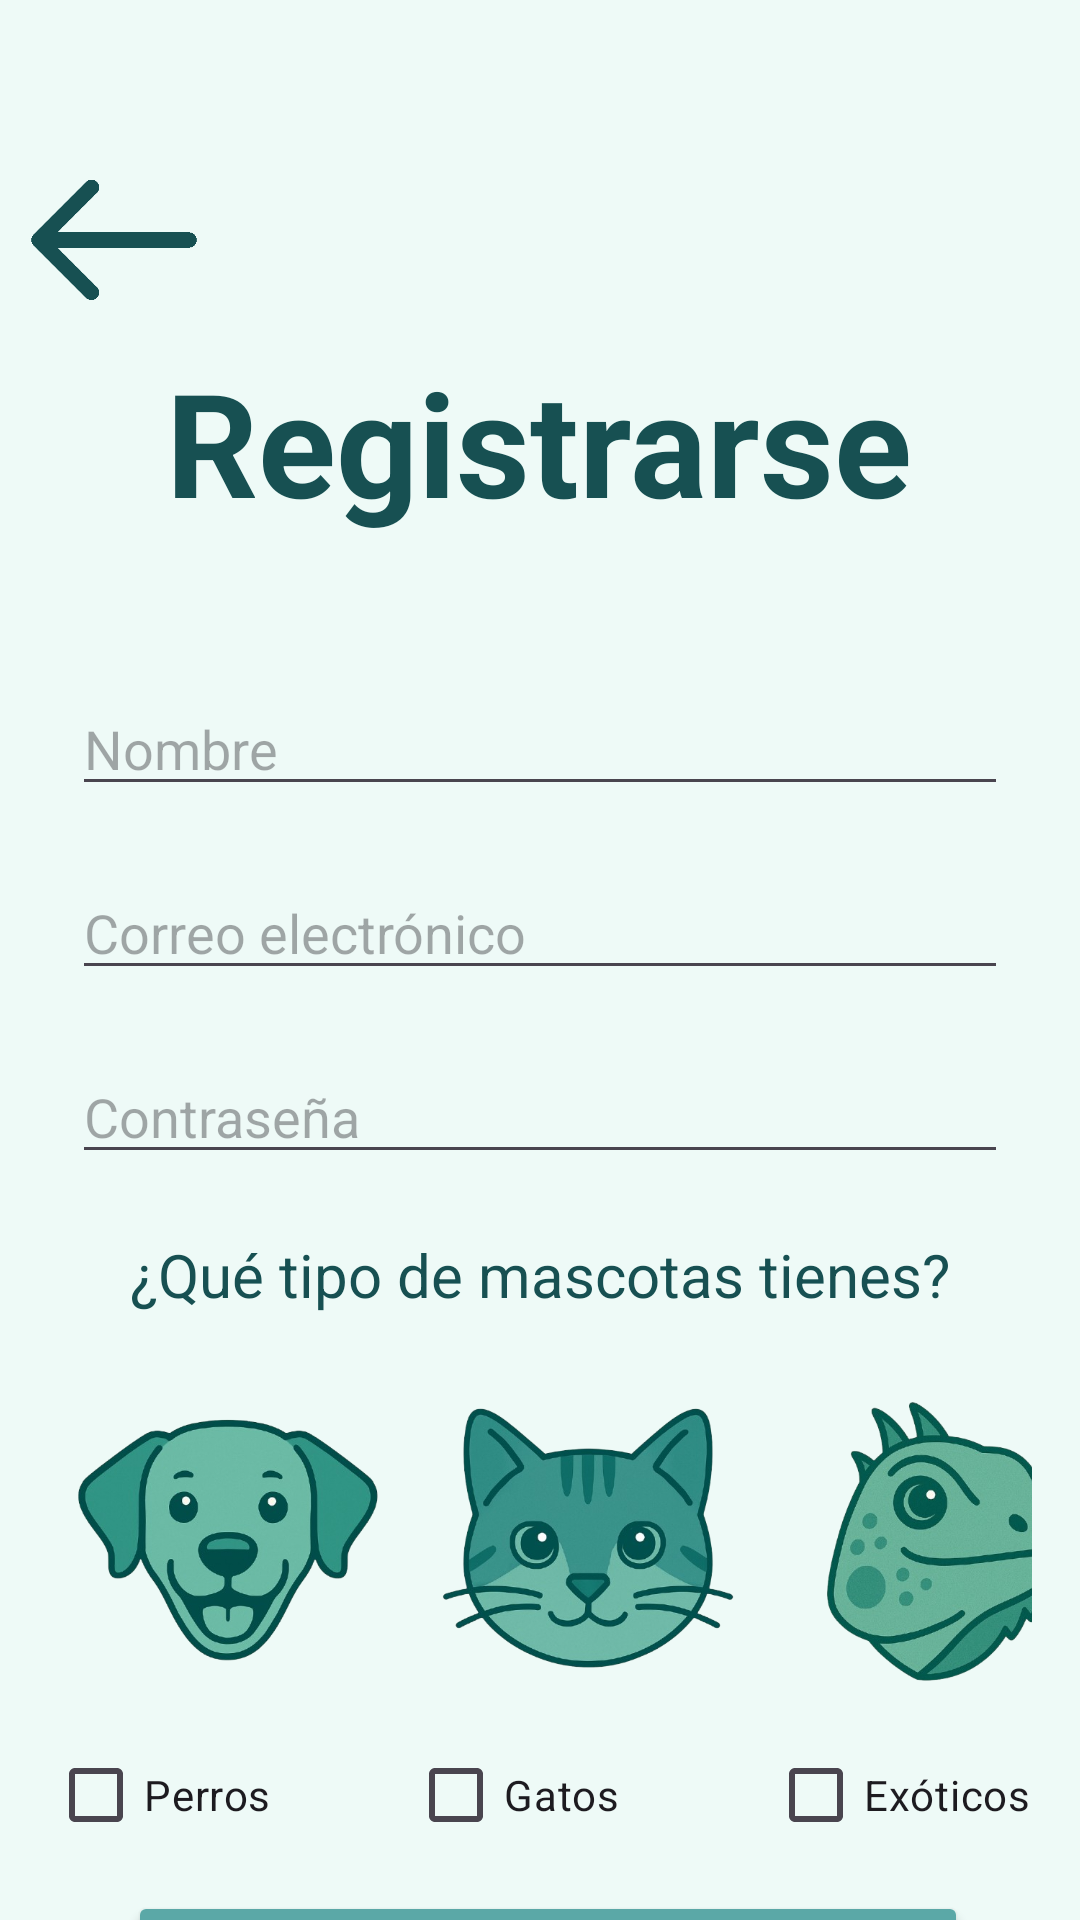

Where to tap for icons on this 1080x1920 app screen, as point (x, y):
back: point (114, 240)
